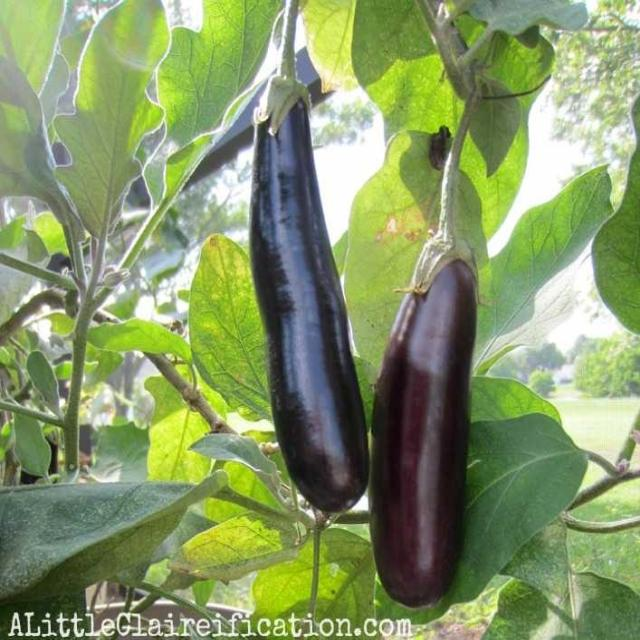Eggplant-r1Ob: (250, 0, 369, 512), (370, 152, 476, 607)
